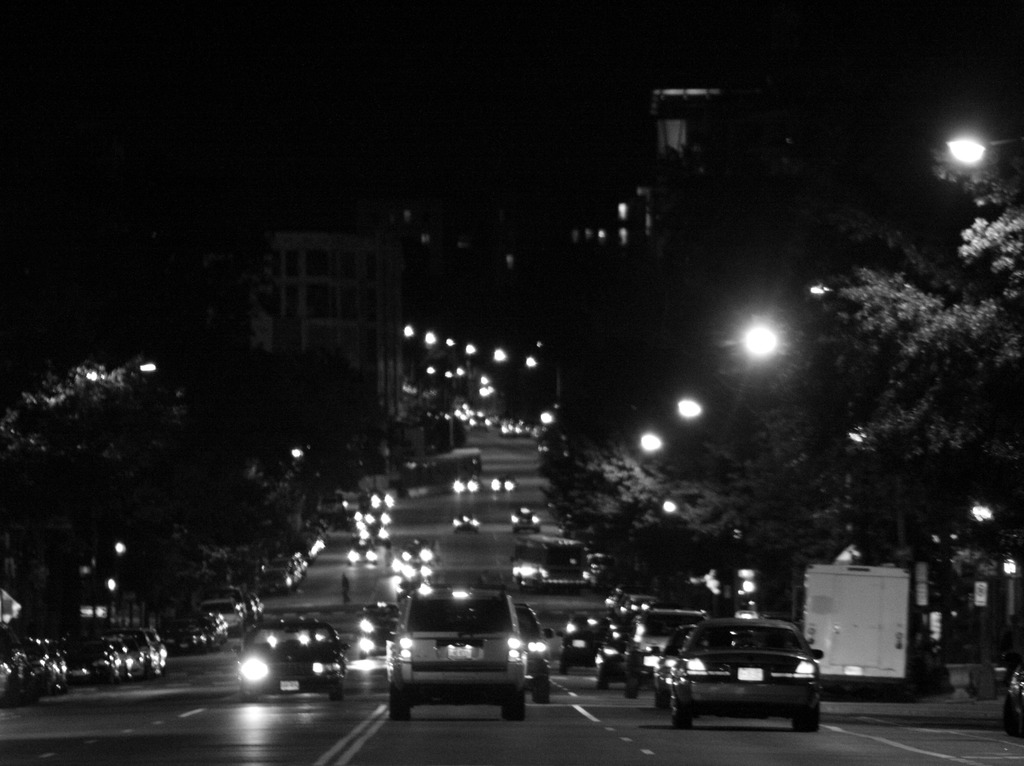Car: (647, 621, 839, 732), (385, 586, 528, 725), (242, 618, 348, 692), (556, 600, 614, 668), (516, 598, 552, 701)
